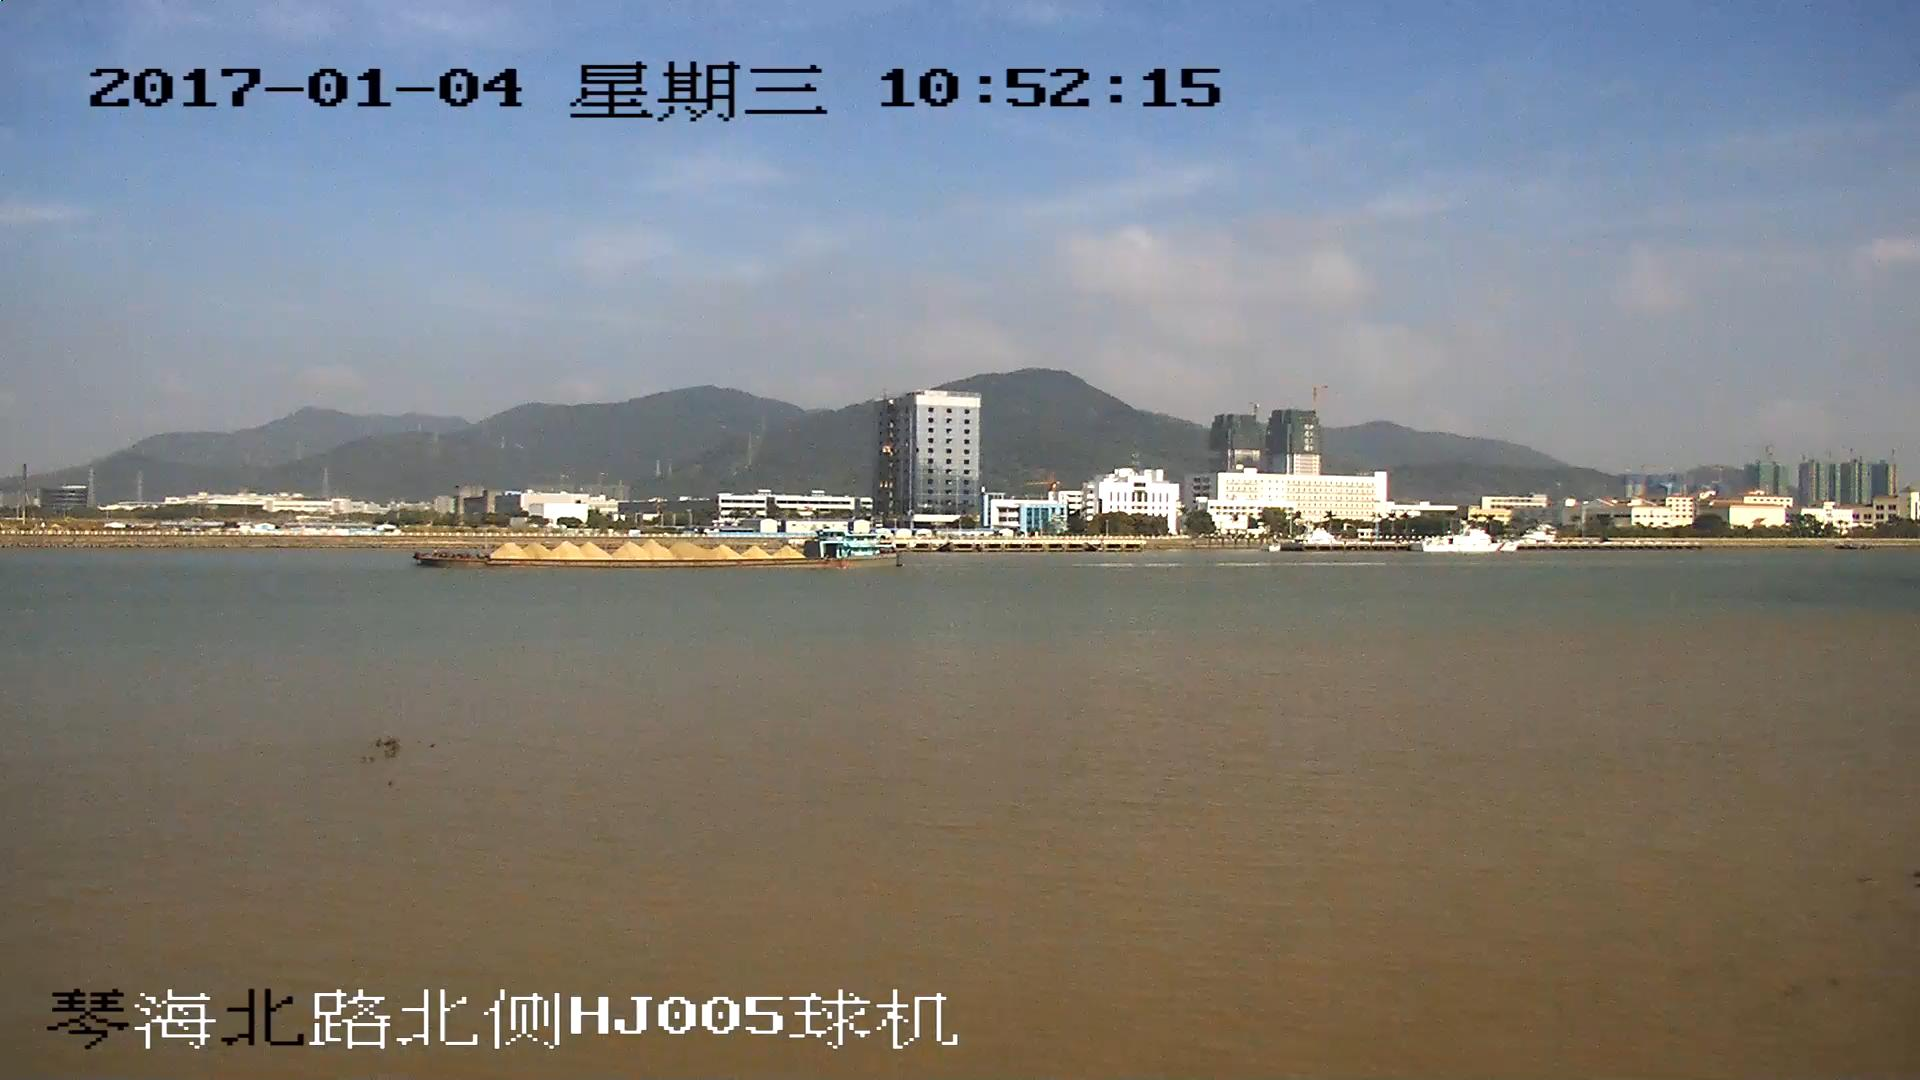ore carrier: (417, 532, 883, 569)
